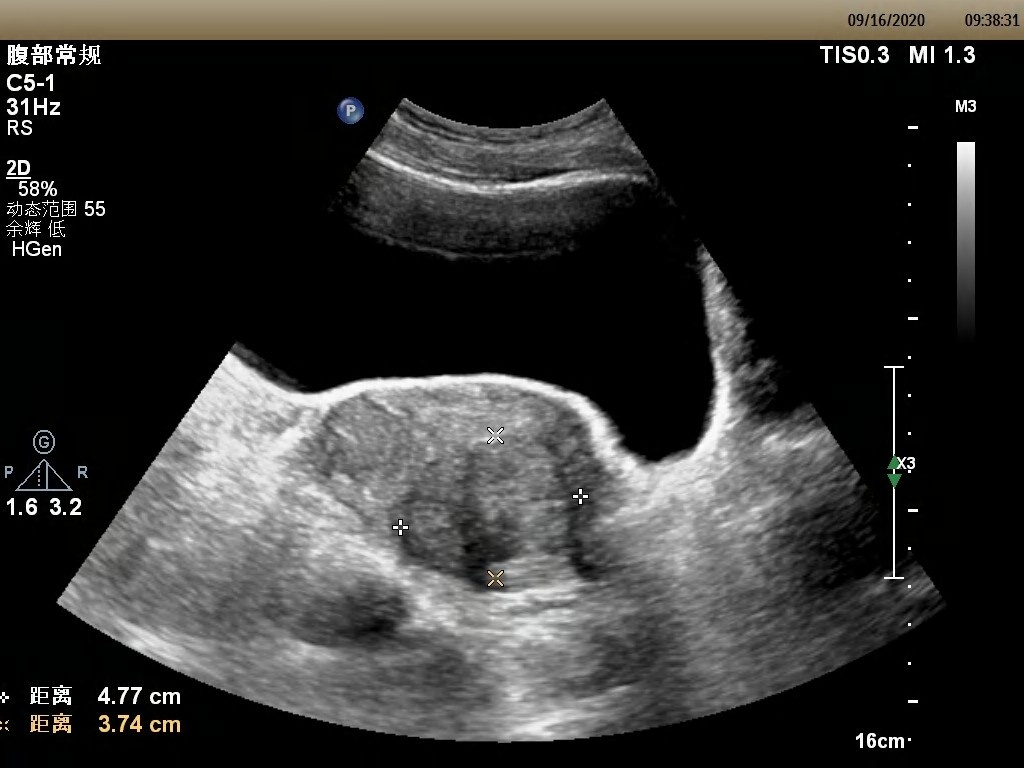肌瘤: (396, 441, 583, 586)
